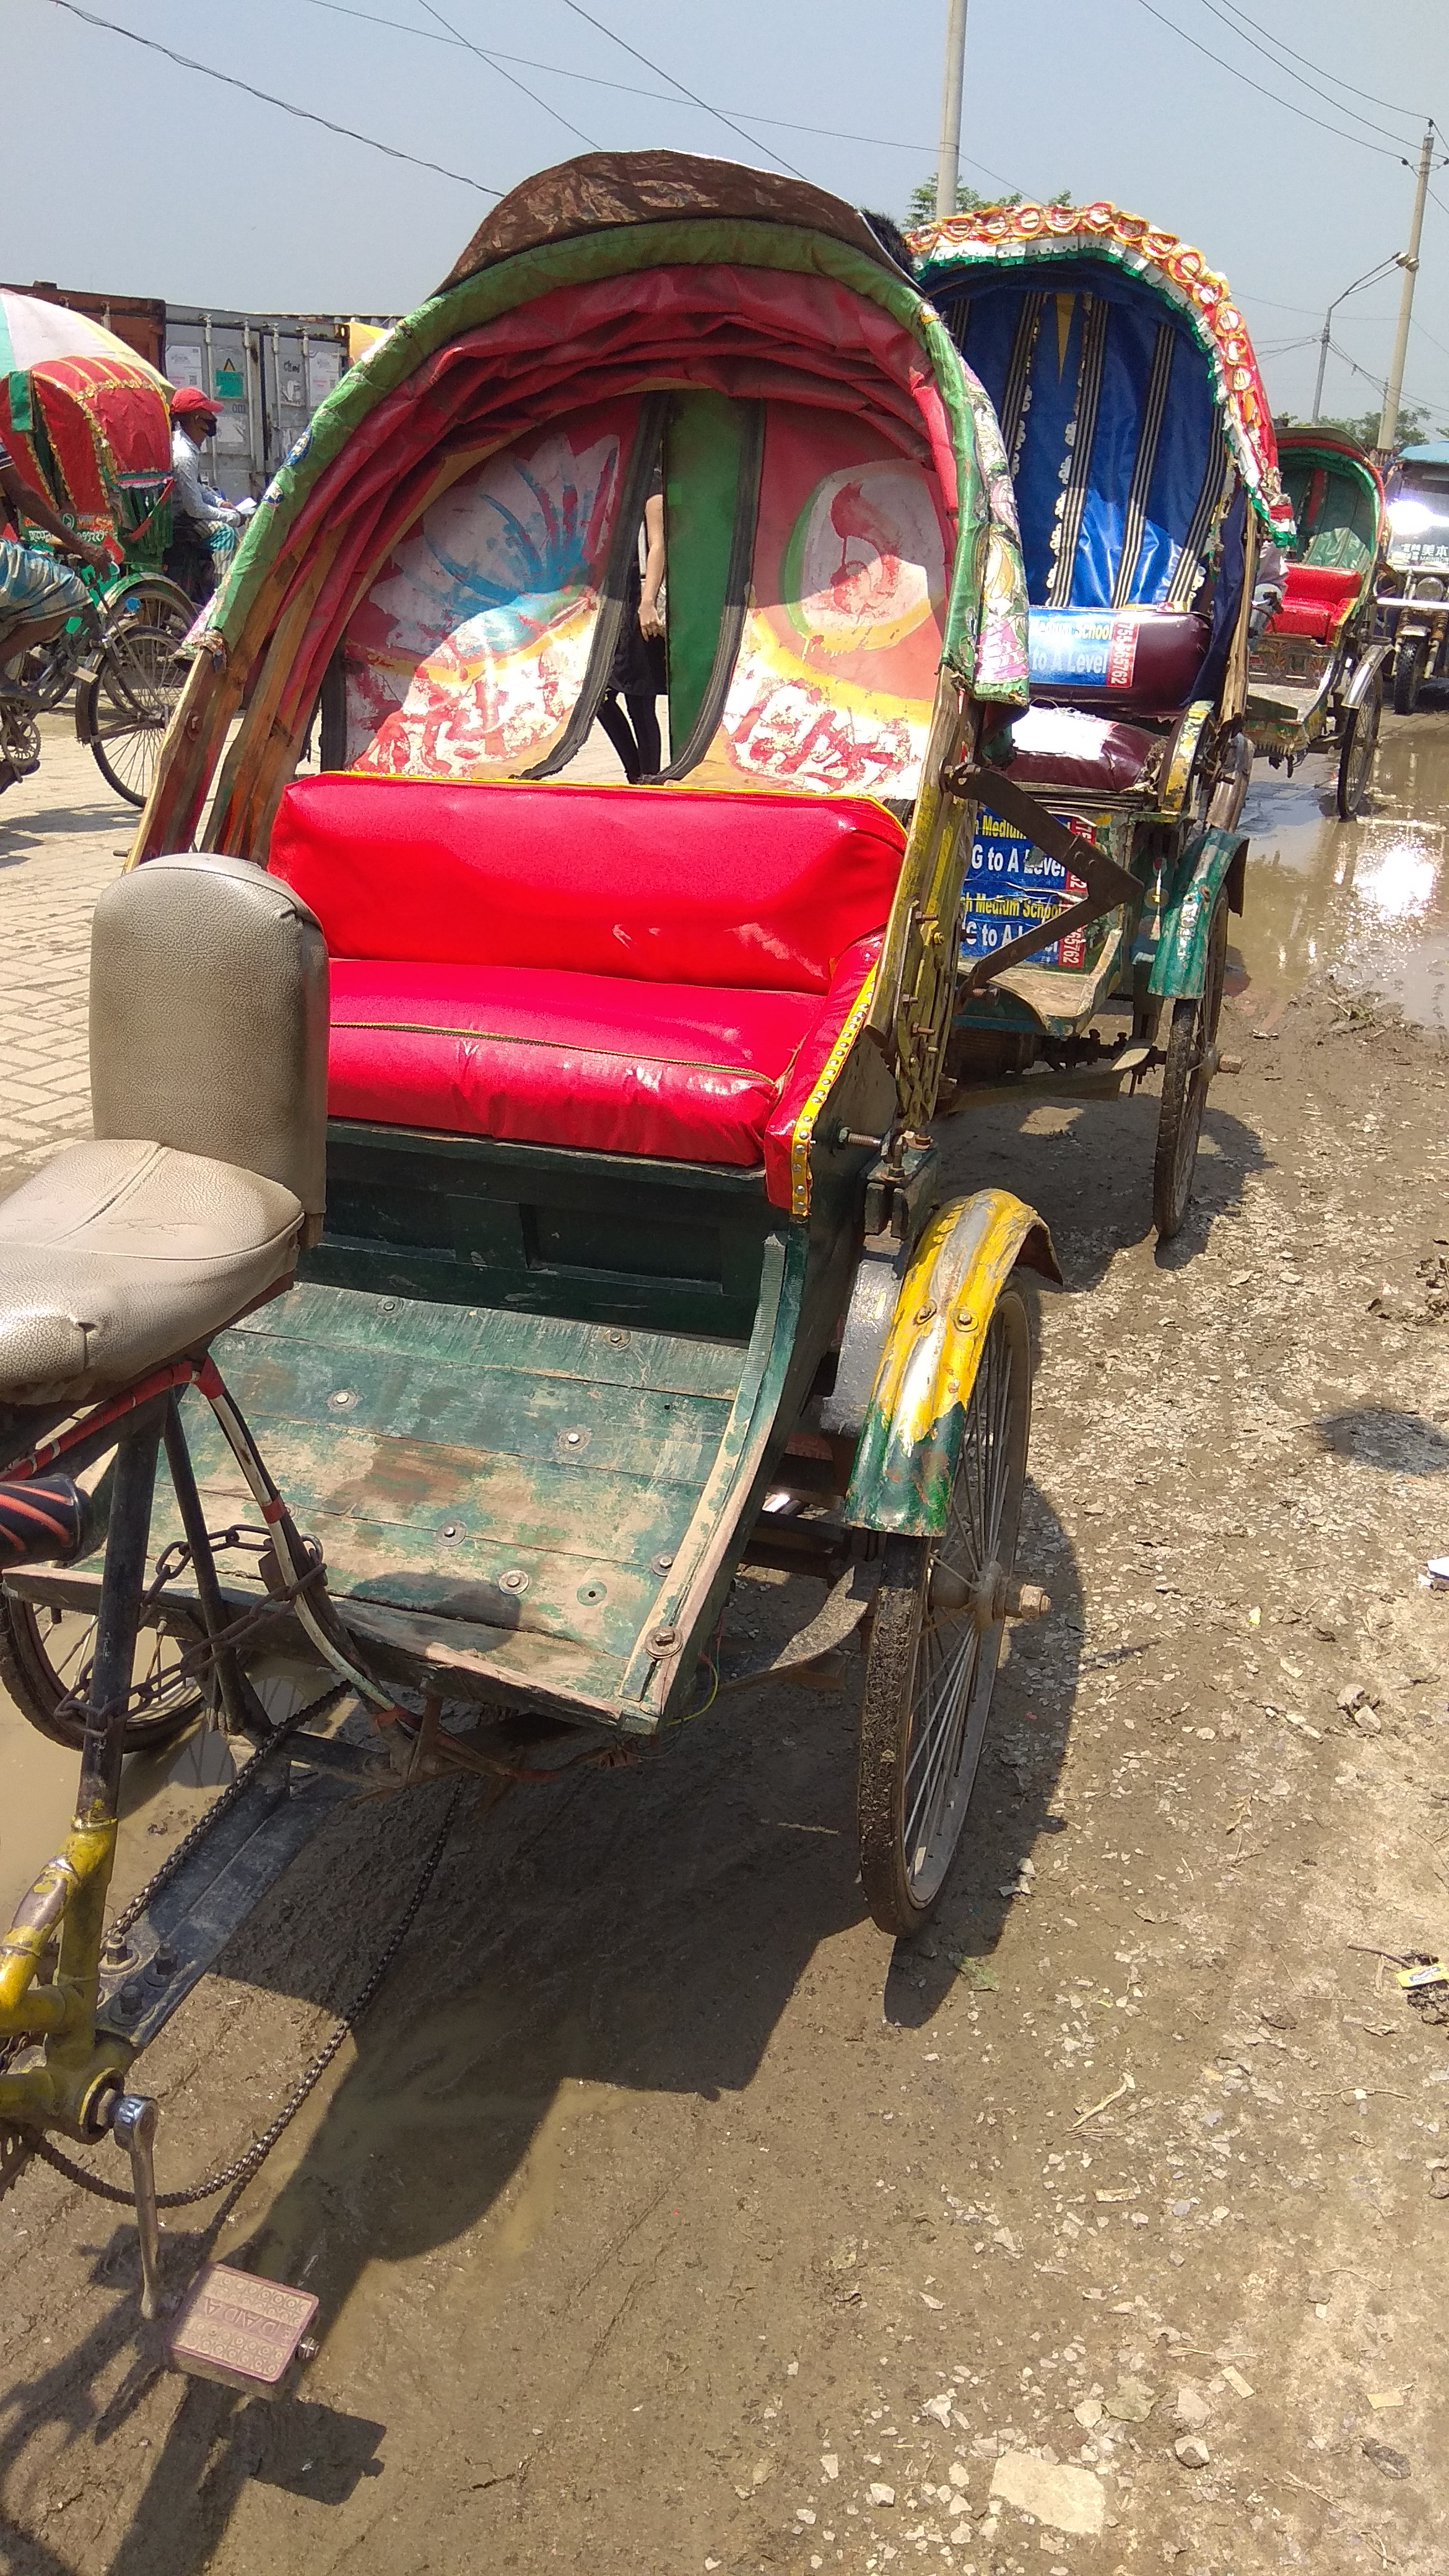Rickshaw: (9, 103, 1051, 2305), (879, 166, 1261, 1215), (9, 322, 214, 764), (1269, 368, 1401, 807)
